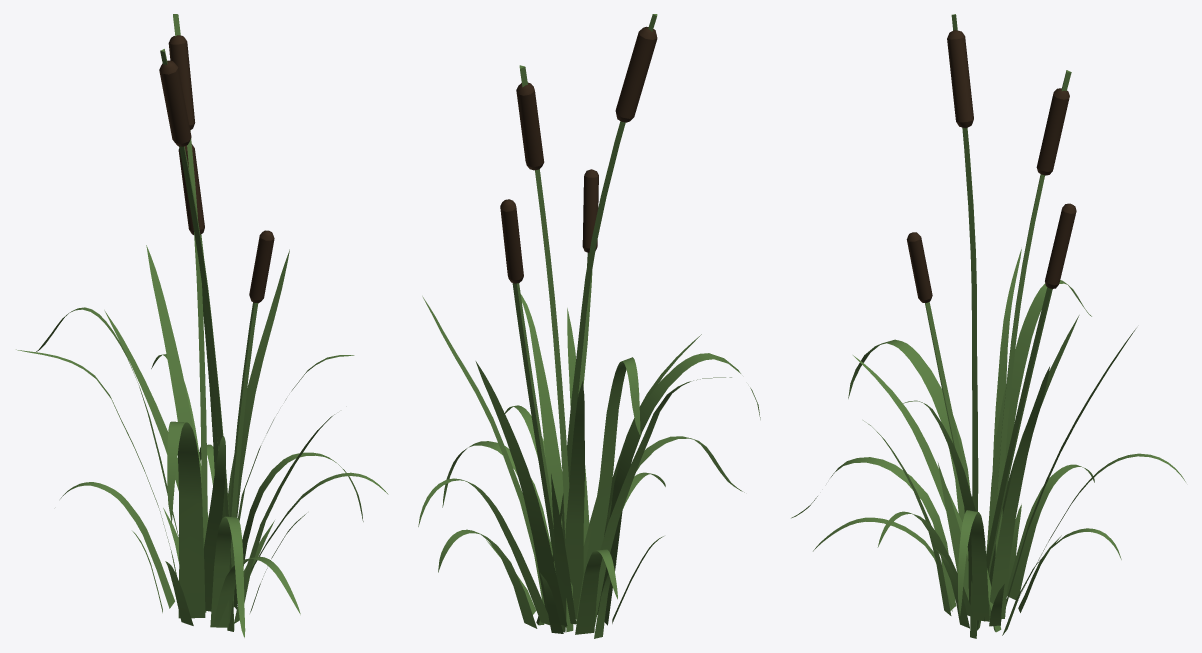
Rendered from plant_cattail_F.fbx.
The picture shows the model from 3 angles, left to right: view 1: azimuth 30°, elevation 25°; view 2: azimuth 150°, elevation 25°; view 3: azimuth 270°, elevation 25°; orthographic projection. The views are drawn at different scales.
Parts seen in each view (by area): view 1: plant_cattail_F_leaf_G, plant_cattail_F_leaf_I1, plant_cattail_F_twig_A, plant_cattail_F_twig_B, plant_cattail_F_leaf_B, plant_cattail_F_leaf_I, plant_cattail_F_leaf_A, plant_cattail_F_flower_A, plant_cattail_F_twig_D, plant_cattail_F_leaf_L, plant_cattail_F_flower_B, plant_cattail_F_flower_D (+8 smaller); view 2: plant_cattail_F_leaf_C, plant_cattail_F_leaf_B, plant_cattail_F_leaf_D, plant_cattail_F_leaf_G, plant_cattail_F_twig_B, plant_cattail_F_twig_A, plant_cattail_F_leaf_E, plant_cattail_F_twig_C, plant_cattail_F_flower_A, plant_cattail_F_leaf_F, plant_cattail_F_leaf_L, plant_cattail_F_flower_B (+12 smaller); view 3: plant_cattail_F_leaf_A, plant_cattail_F_leaf_C, plant_cattail_F_twig_A, plant_cattail_F_leaf_M, plant_cattail_F_twig_B, plant_cattail_F_twig_C, plant_cattail_F_leaf_G, plant_cattail_F_flower_A, plant_cattail_F_leaf_L, plant_cattail_F_flower_B, plant_cattail_F_leaf_I1, plant_cattail_F_flower_C (+11 smaller).
Part boxes in pixels (x1,y1,x2,y2): plant_cattail_F_leaf_G: [167, 421, 205, 618]; plant_cattail_F_leaf_I1: [210, 516, 245, 637]; plant_cattail_F_twig_A: [160, 49, 234, 631]; plant_cattail_F_twig_B: [173, 14, 207, 612]; plant_cattail_F_leaf_B: [146, 245, 208, 521]; plant_cattail_F_leaf_I: [204, 436, 225, 611]; plant_cattail_F_leaf_A: [228, 249, 289, 517]; plant_cattail_F_flower_A: [159, 60, 191, 146]; plant_cattail_F_twig_D: [229, 302, 258, 606]; plant_cattail_F_leaf_L: [60, 482, 174, 608]; plant_cattail_F_flower_B: [168, 35, 195, 129]; plant_cattail_F_flower_D: [249, 230, 274, 303]; plant_cattail_F_leaf_C: [575, 357, 640, 623]; plant_cattail_F_leaf_B: [475, 361, 567, 626]; plant_cattail_F_leaf_D: [565, 381, 584, 618]; plant_cattail_F_leaf_G: [597, 353, 760, 625]; plant_cattail_F_twig_B: [519, 65, 573, 632]; plant_cattail_F_twig_A: [561, 14, 657, 632]; plant_cattail_F_leaf_E: [520, 294, 563, 556]; plant_cattail_F_twig_C: [512, 283, 566, 627]; plant_cattail_F_flower_A: [615, 26, 657, 122]; plant_cattail_F_leaf_F: [595, 377, 731, 625]; plant_cattail_F_leaf_L: [575, 549, 617, 634]; plant_cattail_F_flower_B: [516, 82, 544, 170]; plant_cattail_F_leaf_A: [989, 366, 1049, 619]; plant_cattail_F_leaf_C: [986, 280, 1091, 573]; plant_cattail_F_twig_A: [951, 14, 978, 638]; plant_cattail_F_leaf_M: [958, 510, 989, 621]; plant_cattail_F_twig_B: [995, 70, 1071, 556]; plant_cattail_F_twig_C: [977, 287, 1052, 630]; plant_cattail_F_leaf_G: [848, 339, 970, 521]; plant_cattail_F_flower_A: [947, 29, 973, 128]; plant_cattail_F_leaf_L: [1007, 464, 1094, 600]; plant_cattail_F_flower_B: [1036, 88, 1069, 175]; plant_cattail_F_leaf_I1: [791, 457, 956, 610]; plant_cattail_F_flower_C: [1045, 203, 1076, 288].
Bounding box in the file's own units: 114 × 208 × 128.
